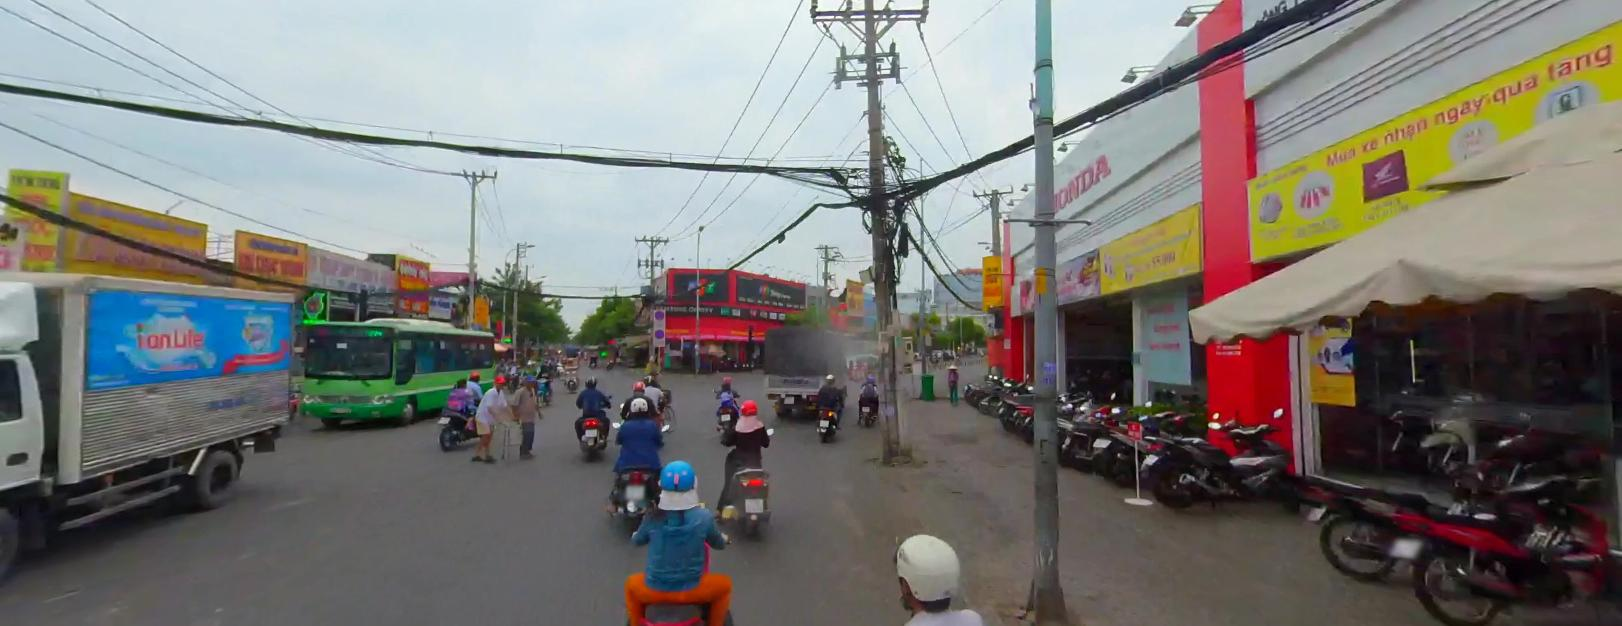Cam dung va do: (654, 308, 663, 318), (654, 327, 663, 336)
